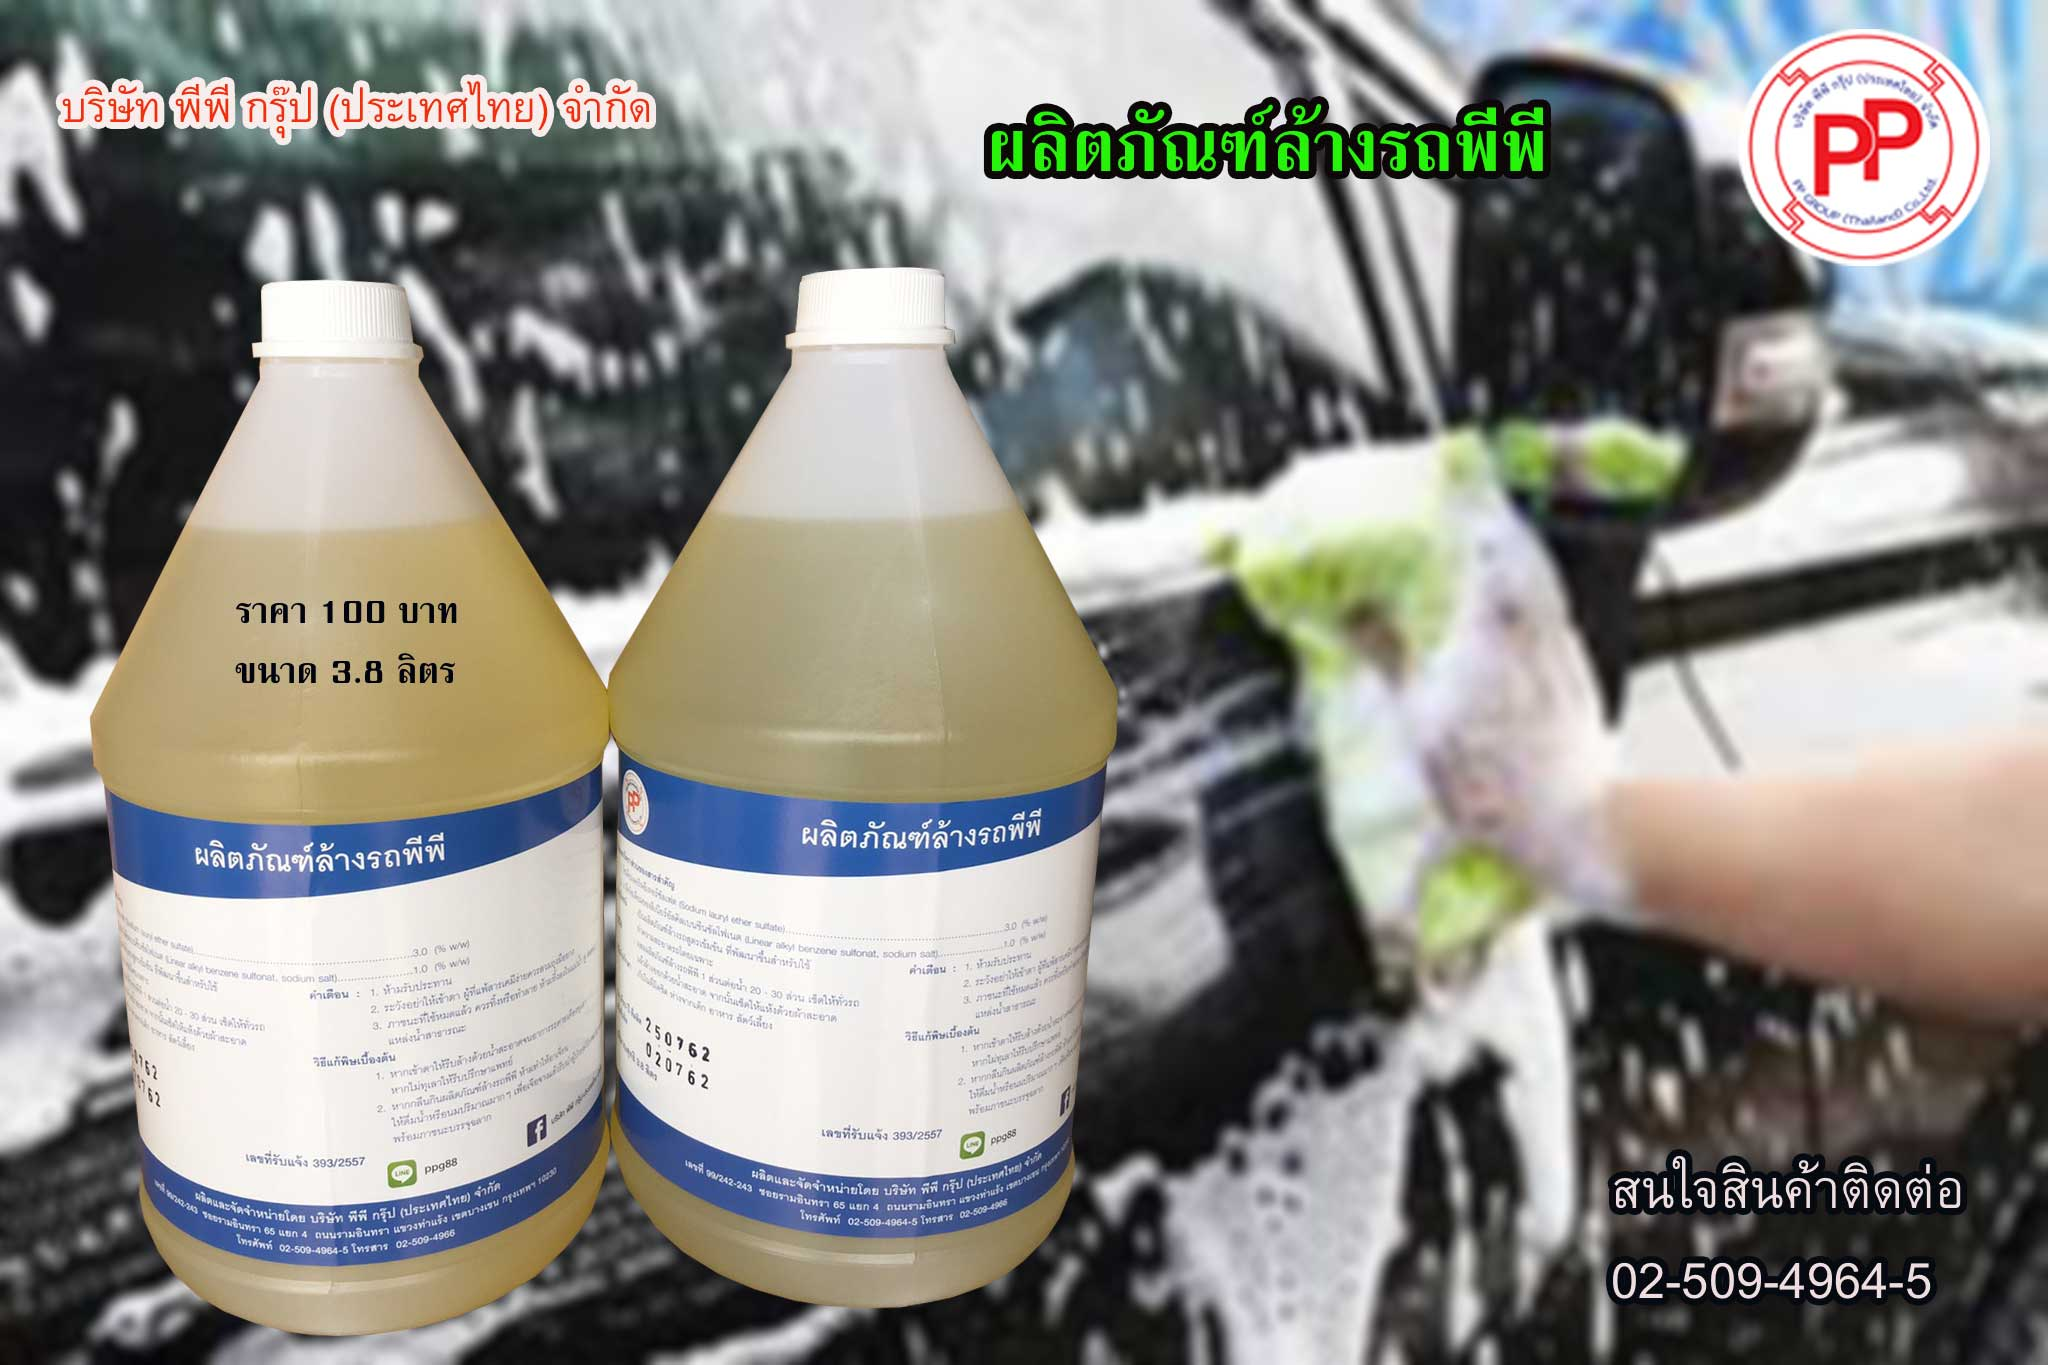Cleaning_solution: (605, 235, 1128, 1322), (78, 256, 601, 1344)
